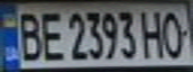2: (63, 8, 87, 61)
3: (118, 7, 142, 60), (84, 8, 103, 61)
9: (100, 8, 121, 60)
B: (12, 8, 45, 62)
E: (36, 8, 66, 62)
H: (136, 7, 169, 60)
O: (157, 7, 193, 58)
